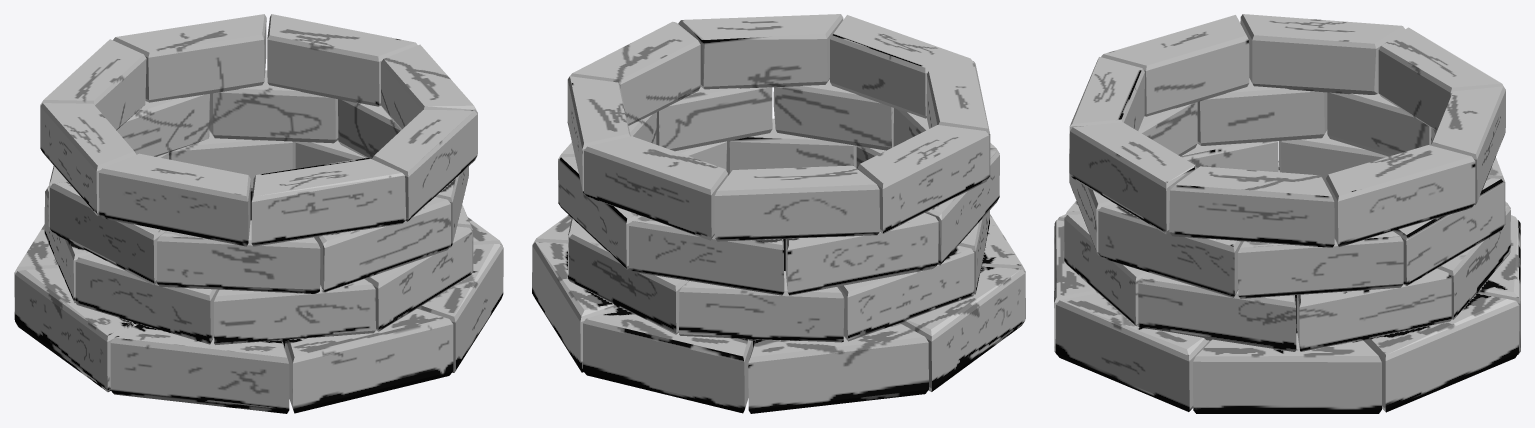
File: well.glb
3 views of the same model, side by side, from view 1: azimuth 30°, elevation 25°; view 2: azimuth 150°, elevation 25°; view 3: azimuth 270°, elevation 25° (orthographic). The views are drawn at different scales.
Parts seen in each view (by area): view 1: Cube.024; view 2: Cube.024; view 3: Cube.024.
Boxes of the visible parts, x1,y1,x2,y2 form: Cube.024: (14,14,503,413); Cube.024: (532,14,1025,413); Cube.024: (1054,14,1520,413).
Size of what is drawn, in the model's own units: 2.67 by 1.35 by 2.67.
Materials: 1 (1 with a texture image).
